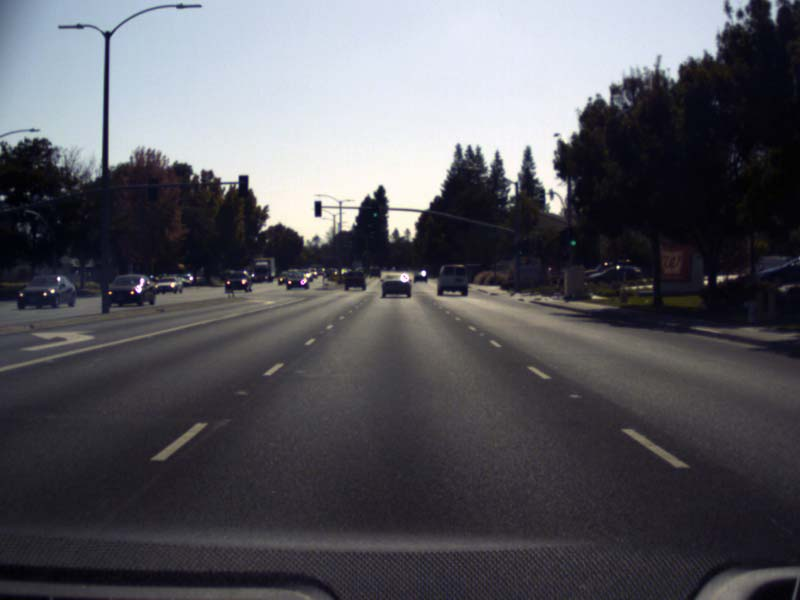Green: (568, 227, 577, 247), (371, 202, 379, 219), (517, 243, 521, 254)
